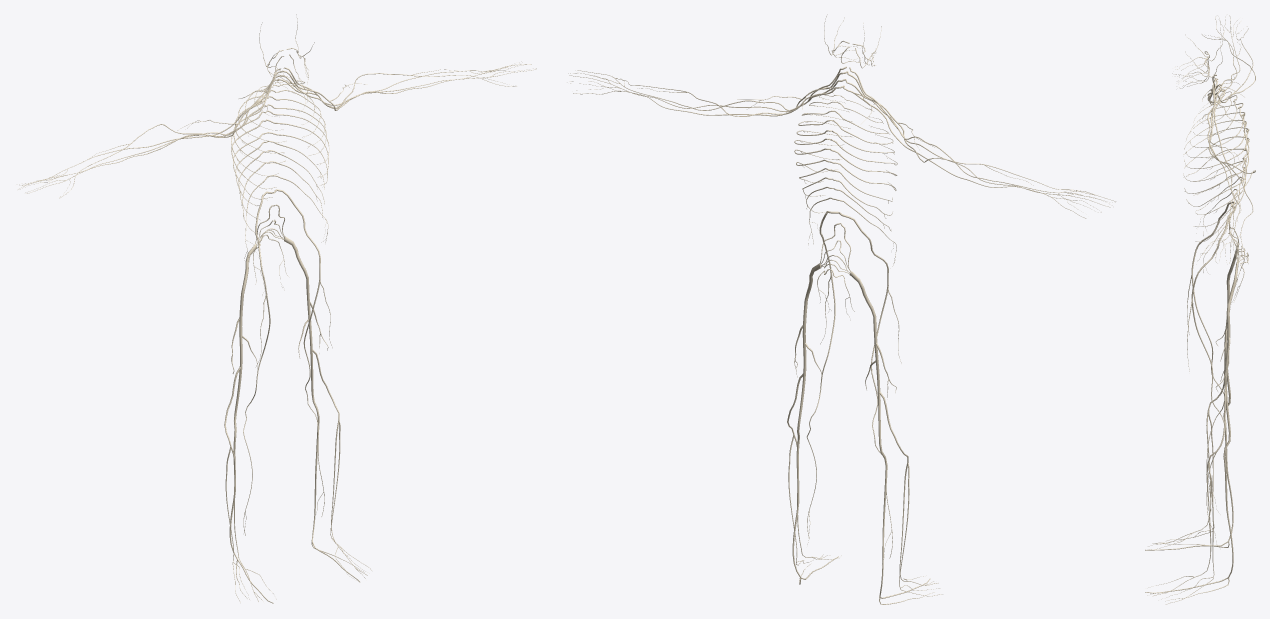
The model's file is nurves.fbx.
3 views of the same model, side by side, from view 1: azimuth 30°, elevation 25°; view 2: azimuth 150°, elevation 25°; view 3: azimuth 270°, elevation 25° (orthographic). The views are drawn at different scales.
Parts seen in each view (by area): view 1: Nervous_Nerves_Right_Geo, Nervous_Nerves_Left_Geo; view 2: Nervous_Nerves_Right_Geo, Nervous_Nerves_Left_Geo; view 3: Nervous_Nerves_Left_Geo, Nervous_Nerves_Right_Geo.
Part boxes in pixels (box(x1,y1,x2,y2)): Nervous_Nerves_Right_Geo: box(17, 22, 298, 603); Nervous_Nerves_Left_Geo: box(265, 14, 536, 582); Nervous_Nerves_Right_Geo: box(830, 23, 1115, 604); Nervous_Nerves_Left_Geo: box(568, 14, 863, 584); Nervous_Nerves_Left_Geo: box(1145, 38, 1255, 604); Nervous_Nerves_Right_Geo: box(1145, 15, 1255, 550).
Bounding box in the file's own units: 173 × 175 × 32.28.
